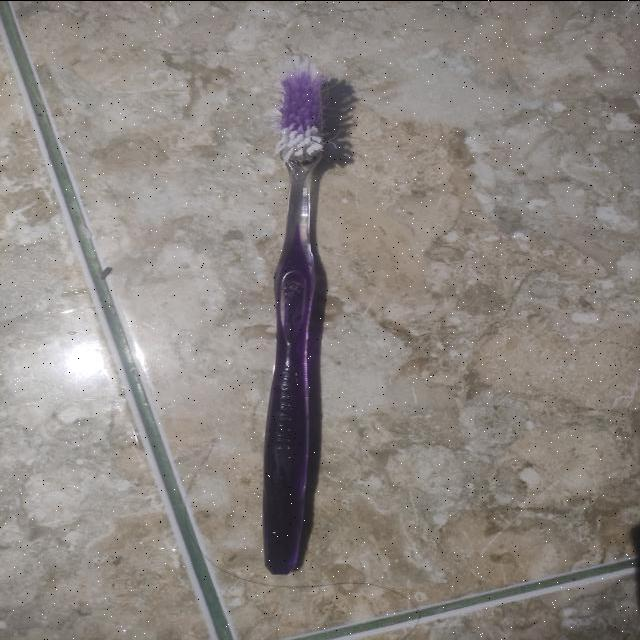toothbrush: (251, 70, 373, 574)
